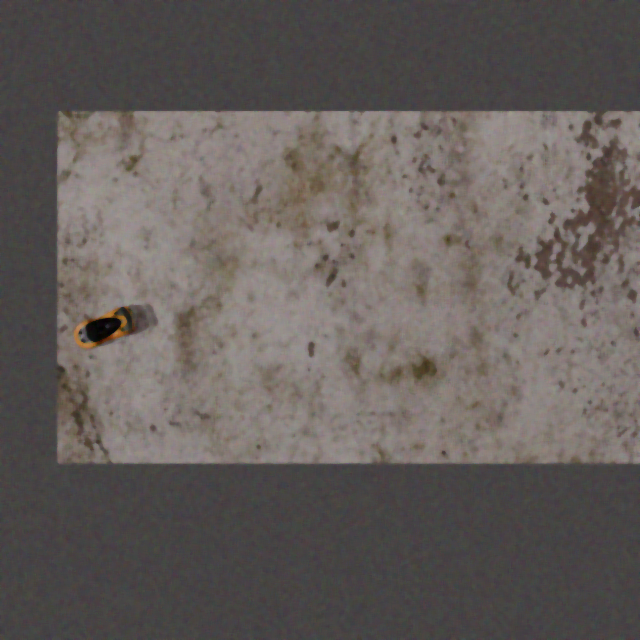car: (63, 303, 142, 355)
